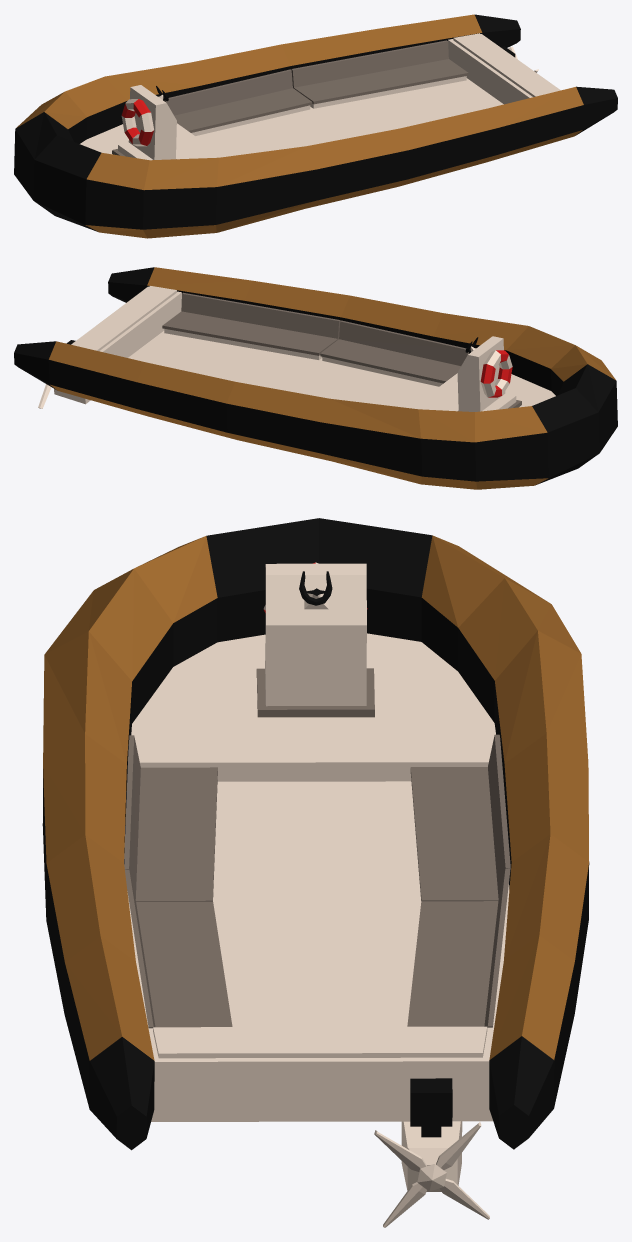
File: boat.FBX
The picture shows the model from 3 angles, top to bottom: view 1: azimuth 30°, elevation 25°; view 2: azimuth 150°, elevation 25°; view 3: azimuth 270°, elevation 25°; orthographic projection. The views are drawn at different scales.
Visible parts, largest first — view 1: boat, curl; view 2: boat, curl; view 3: boat, boat_engine, boat_fan.
Part boxes in pixels (x1,y1,x2,y2): boat: [14, 14, 617, 238]; curl: [121, 99, 153, 146]; boat: [14, 267, 617, 489]; curl: [480, 350, 512, 397]; boat: [42, 518, 589, 1150]; boat_engine: [401, 1078, 462, 1191]; boat_fan: [374, 1122, 489, 1227].
Size of the model in its own units: 130 by 32 by 57.78.
